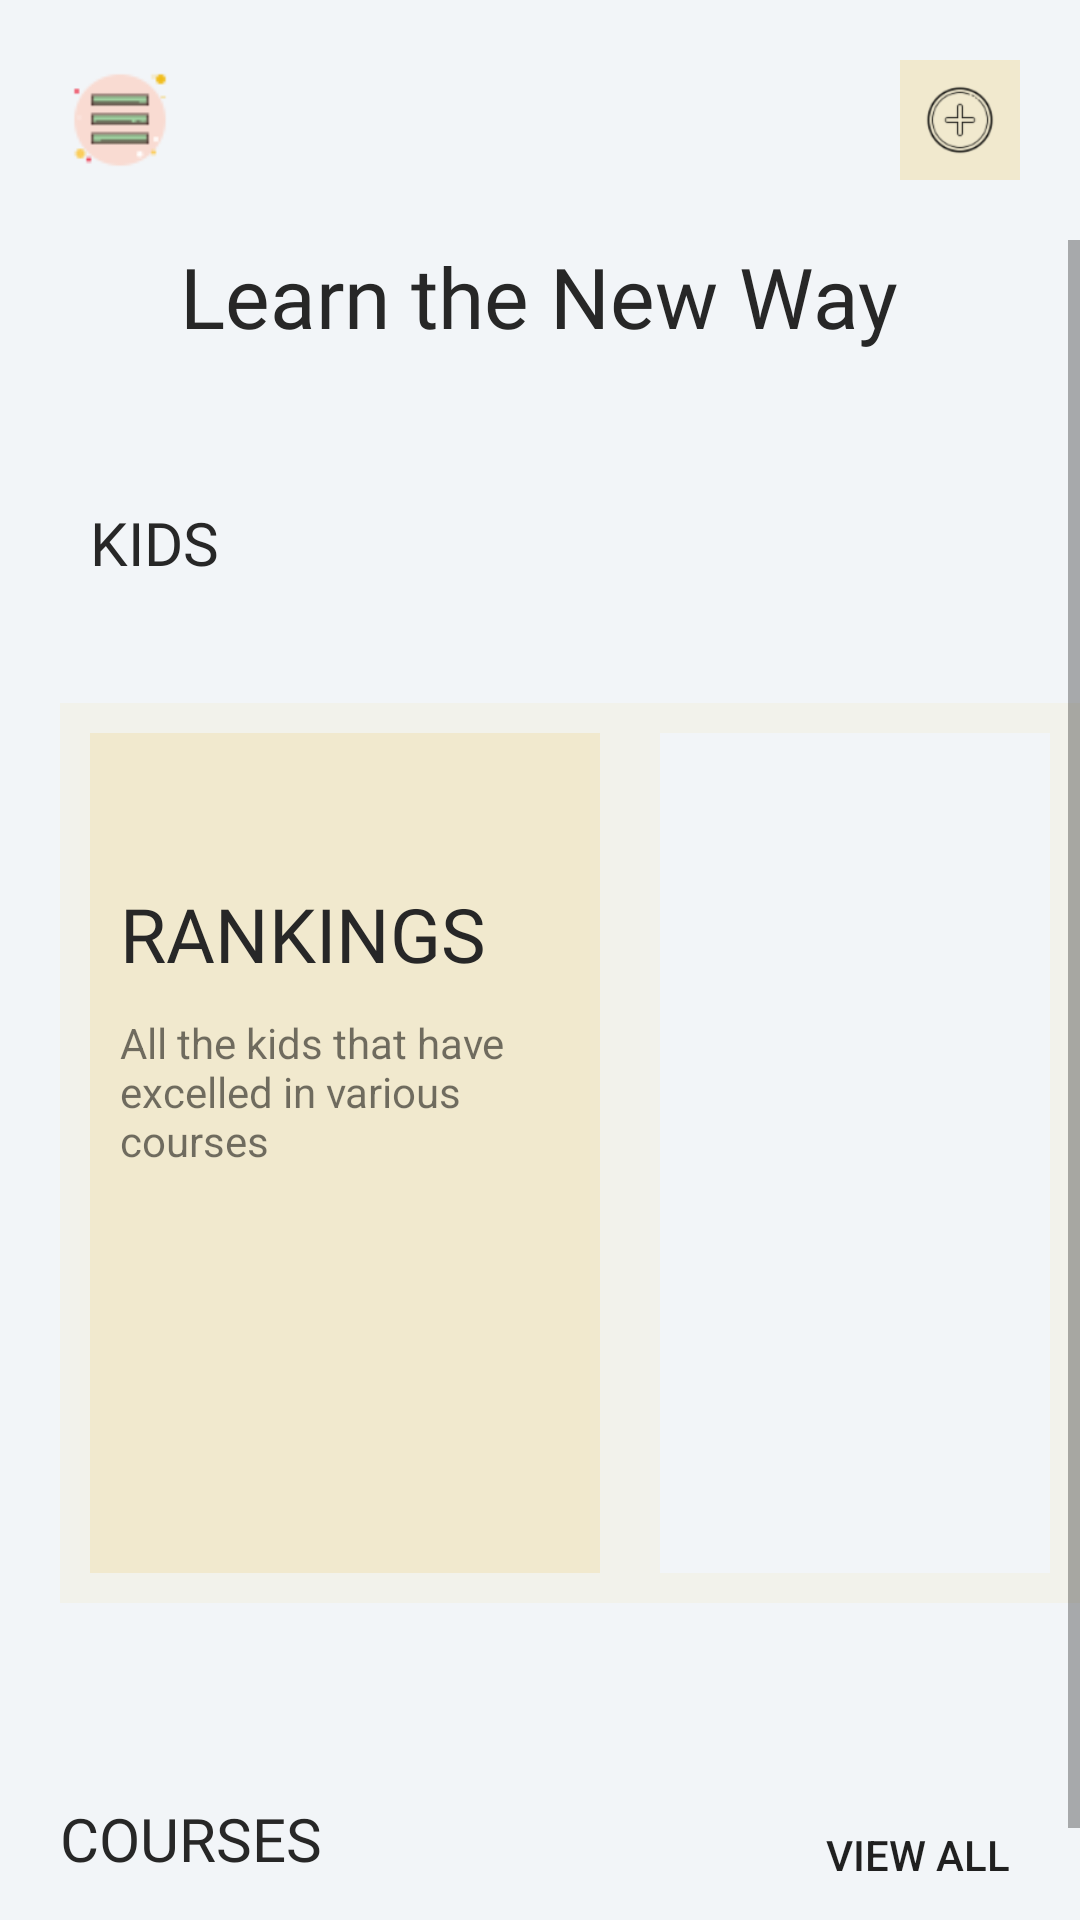

Screen size 1080w x 1920h. Icon name, then its box in pixels as bbox=[x1, y1, x2, y2]:
add: bbox=[900, 60, 1020, 180]
menu: bbox=[74, 73, 167, 165]
